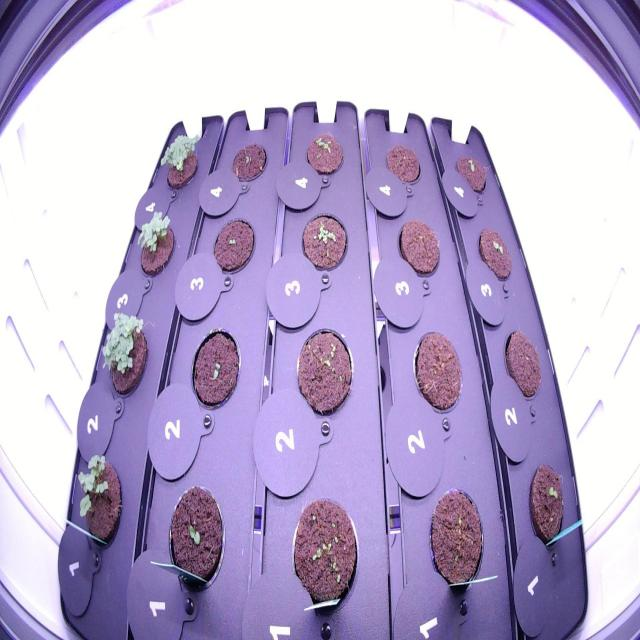germination: (286, 491, 364, 617), (161, 472, 231, 604), (71, 444, 128, 556), (94, 302, 154, 406), (184, 320, 245, 419), (524, 453, 572, 558), (294, 203, 354, 284), (132, 200, 180, 288), (205, 210, 259, 284), (155, 125, 204, 200), (472, 215, 514, 290), (301, 126, 349, 182), (449, 146, 492, 204)
pod: (421, 473, 491, 601), (289, 320, 358, 428), (407, 320, 467, 418), (498, 321, 546, 405), (392, 212, 445, 285), (224, 132, 270, 195), (379, 138, 425, 195)
